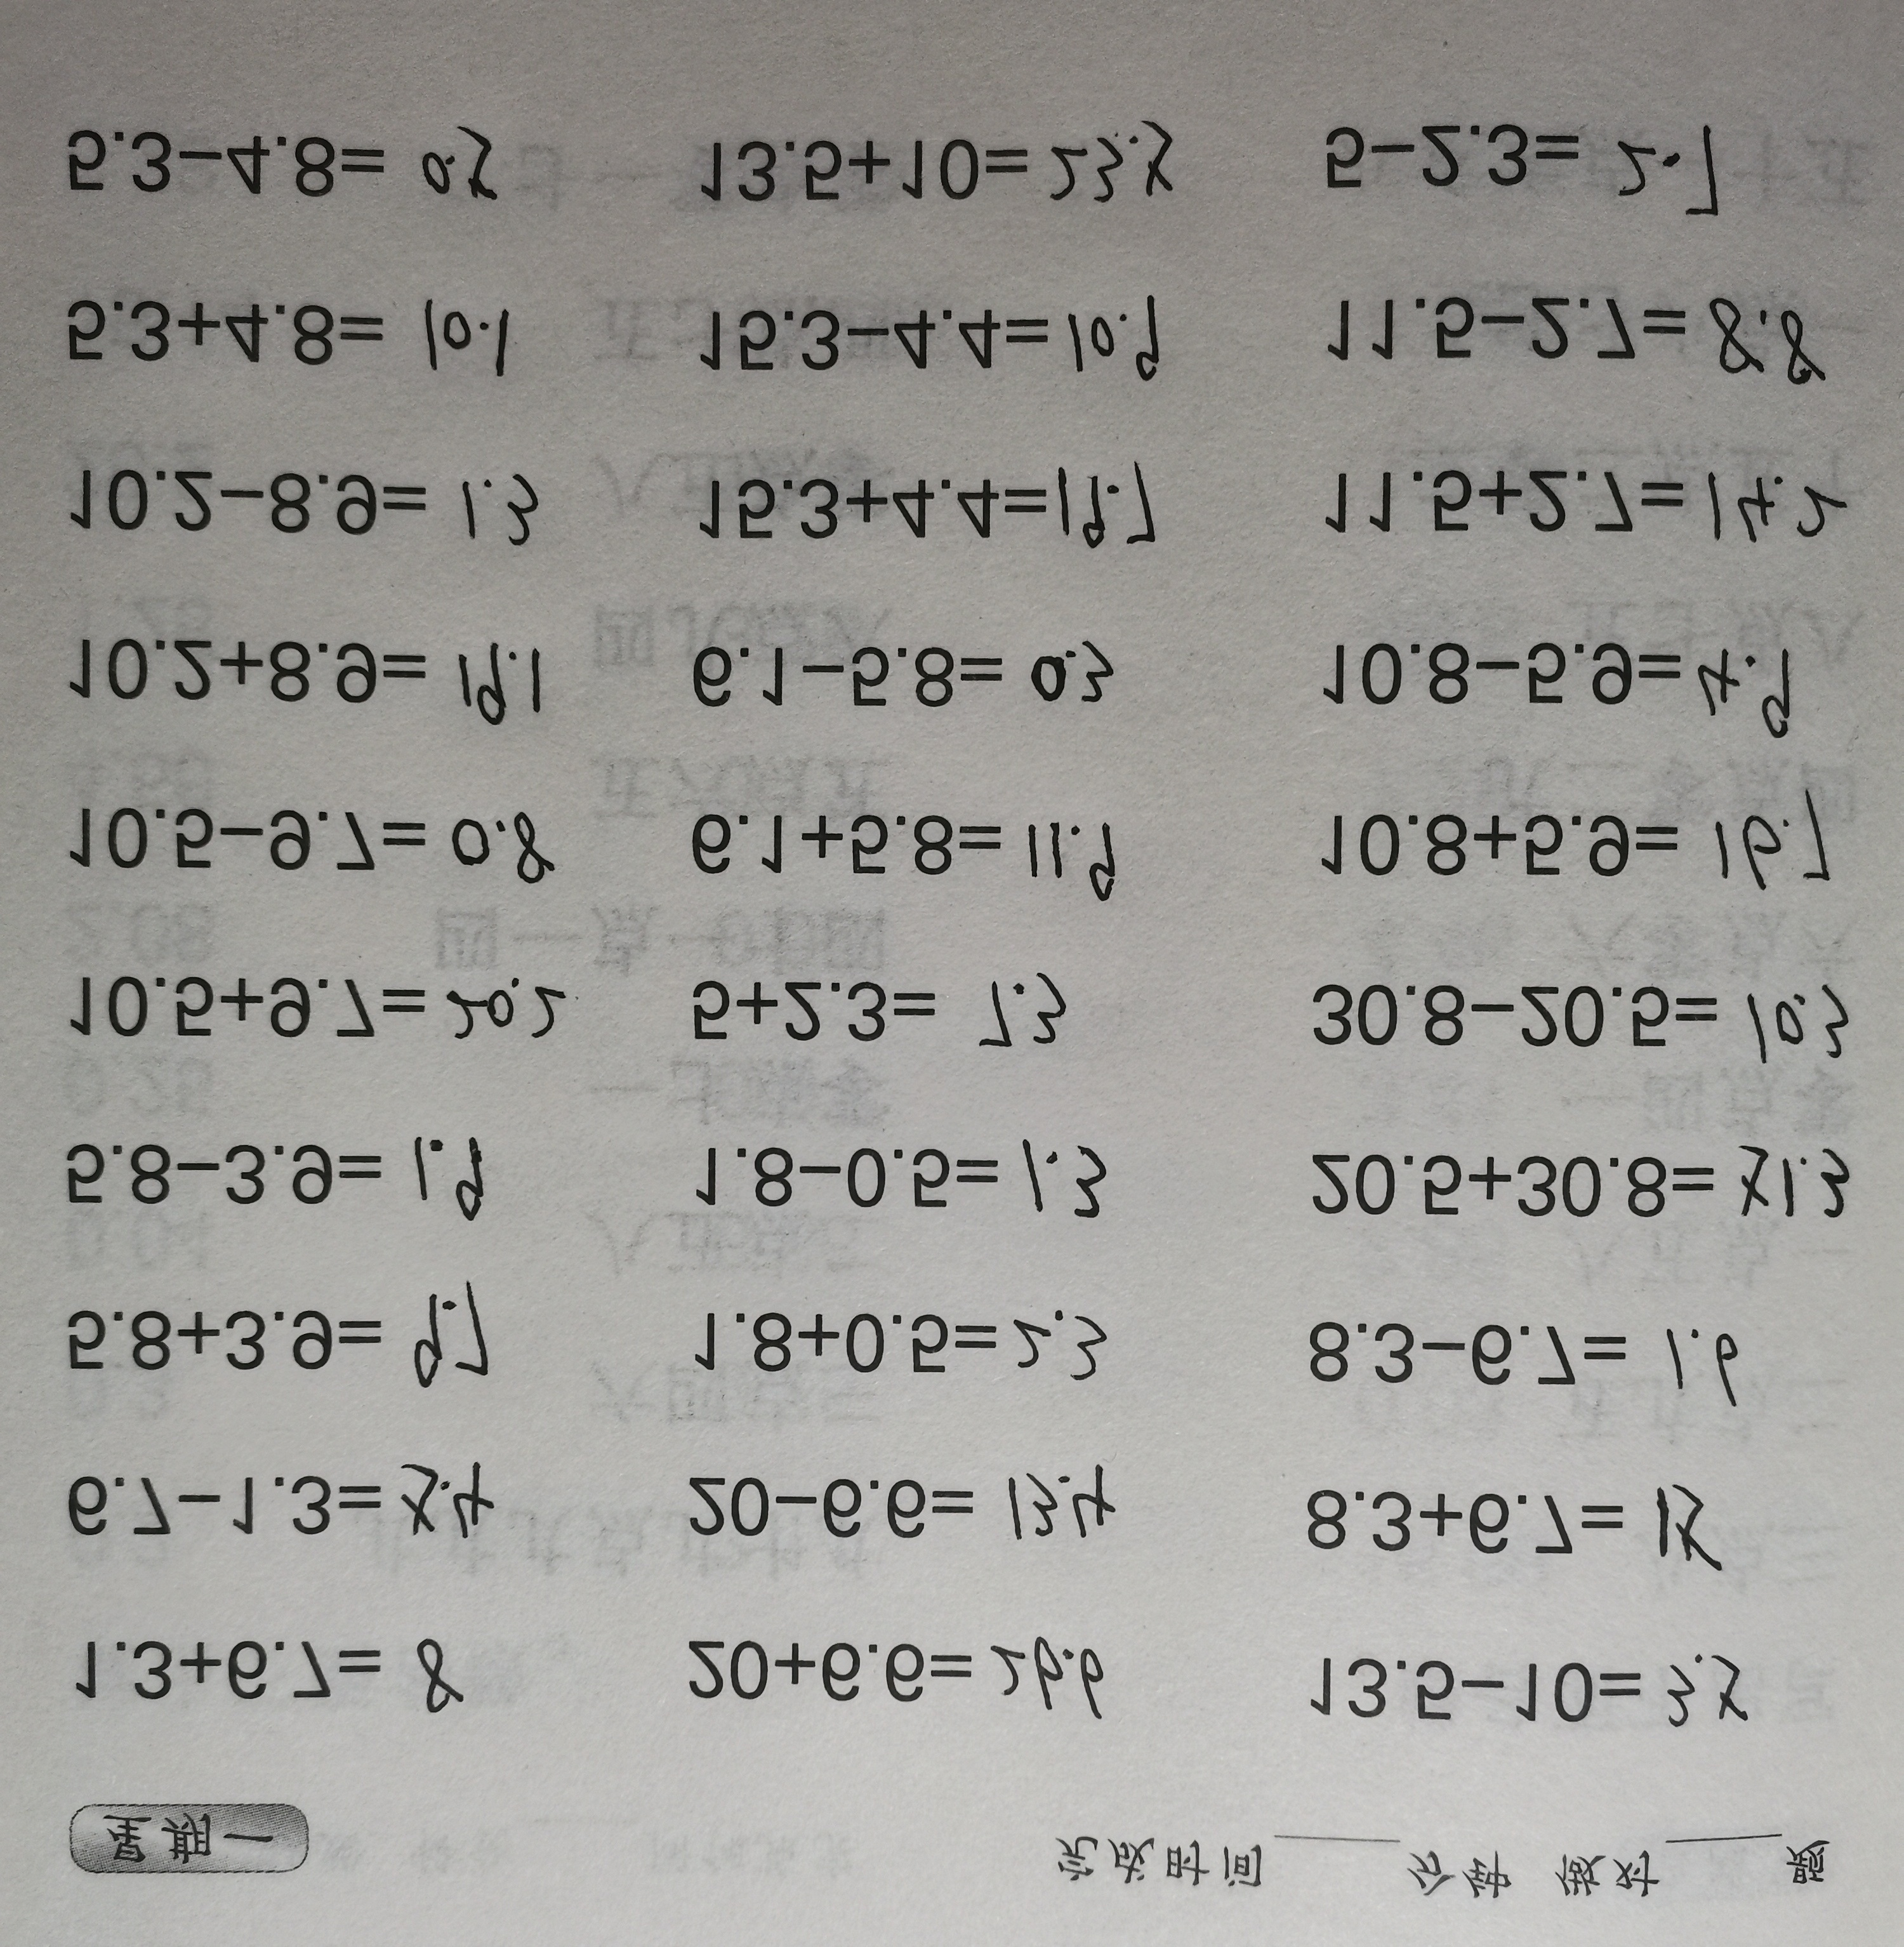equation: (1283, 1123, 1883, 1252), (680, 91, 1214, 232), (682, 443, 1177, 589), (1299, 781, 1852, 908), (1306, 621, 1826, 755), (1304, 966, 1871, 1088), (1313, 286, 1864, 403), (678, 284, 1173, 411), (671, 621, 1156, 750), (49, 624, 589, 739), (49, 277, 530, 401), (682, 791, 1135, 922), (63, 455, 577, 570), (1311, 460, 1867, 565), (51, 1123, 518, 1245), (47, 959, 582, 1065), (1311, 101, 1745, 232), (49, 108, 534, 225), (54, 1278, 509, 1401), (63, 790, 574, 899), (673, 1126, 1130, 1246), (1289, 1316, 1787, 1426), (1287, 1642, 1759, 1757), (659, 1625, 1125, 1740), (1285, 1471, 1738, 1583), (661, 1459, 1126, 1567), (664, 964, 1079, 1084), (657, 1295, 1126, 1401), (45, 1454, 518, 1555), (63, 1632, 476, 1741)
